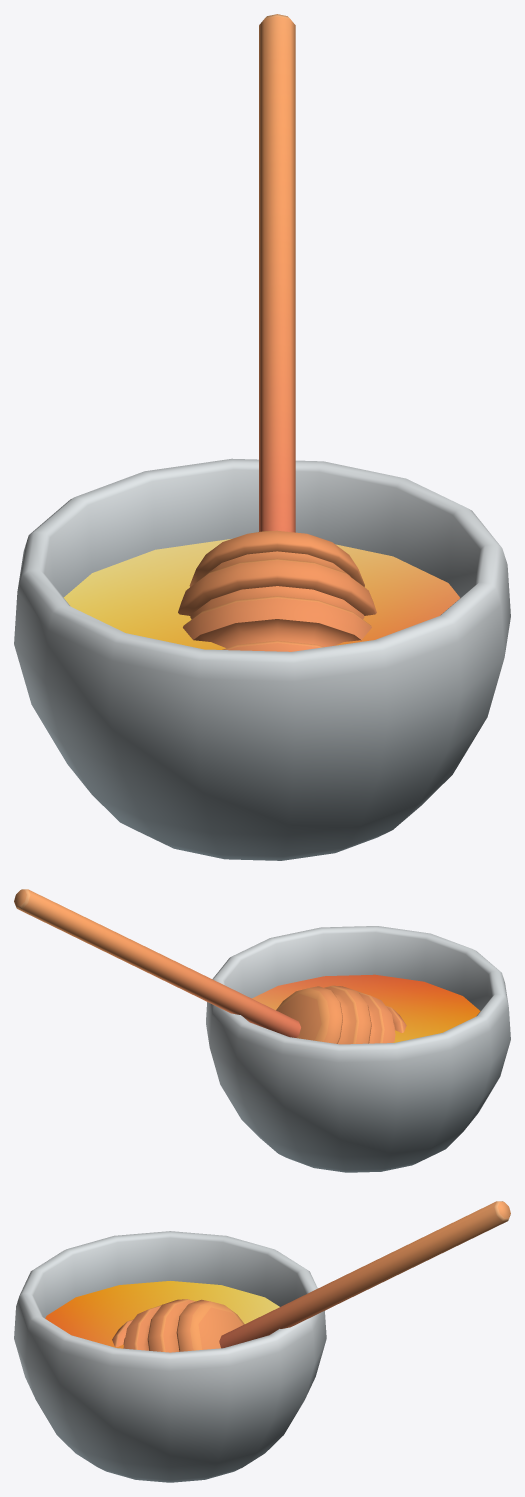
Rendered from honey_001.fbx.
3 views of the same model, one above another, from view 1: azimuth 30°, elevation 25°; view 2: azimuth 150°, elevation 25°; view 3: azimuth 270°, elevation 25° (orthographic). The views are drawn at different scales.
Parts seen in each view (by area): view 1: honey_001; view 2: honey_001; view 3: honey_001.
Boxes of the visible parts, x1,y1,x2,y2 form: honey_001: (14,14,510,860); honey_001: (14,889,510,1172); honey_001: (14,1201,510,1482).
Bounding box in the file's own units: 16.68 × 22.49 × 16.5.
